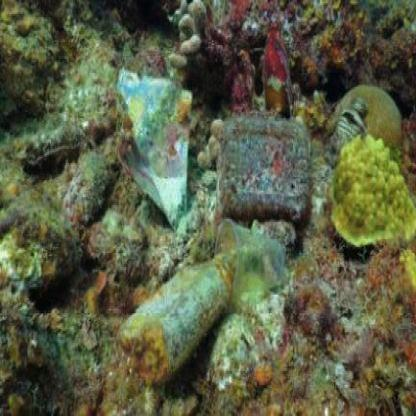gbottle: (100, 238, 241, 370)
misc: (214, 108, 336, 244)
plastic: (215, 208, 290, 310)
